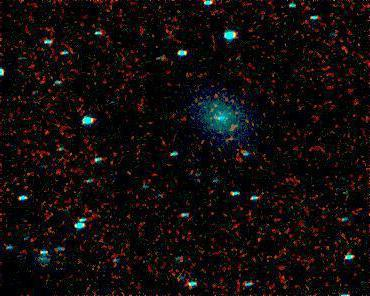star: (202, 92, 232, 122)
